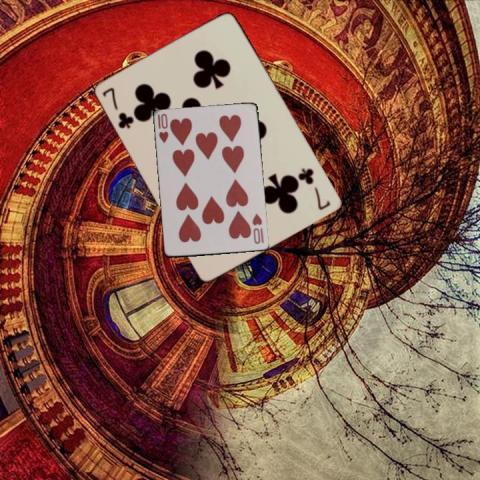10h: (250, 211, 266, 245), (155, 110, 170, 144)
7c: (99, 84, 136, 131), (297, 165, 332, 211)
